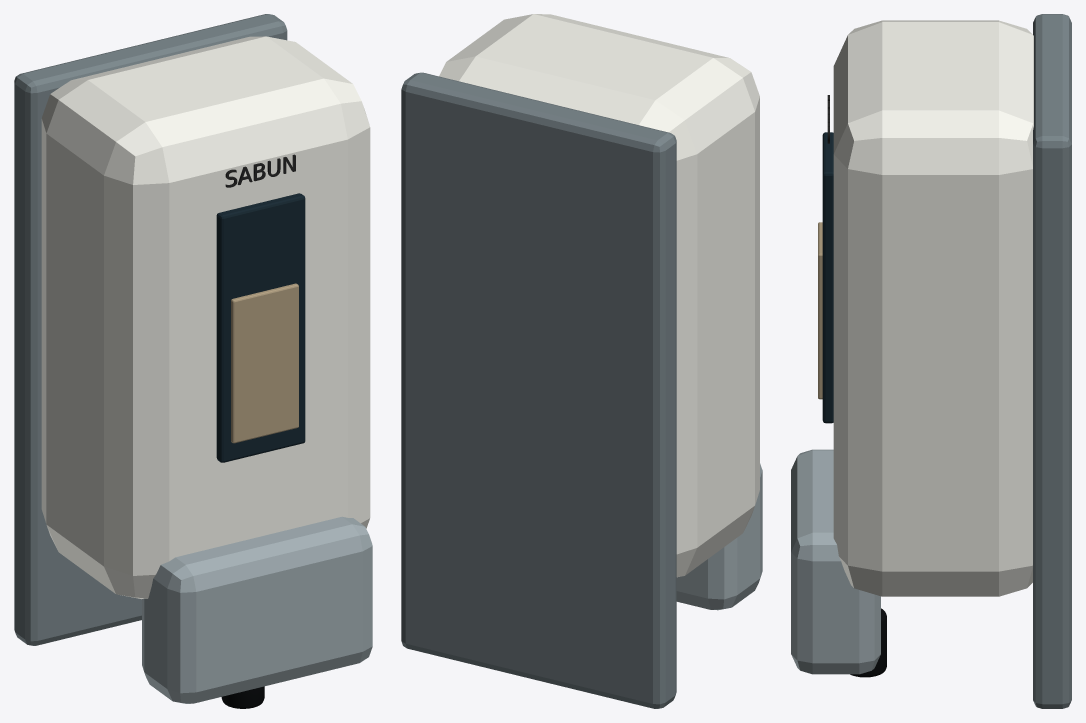
The model's file is OAA_Soap_Dispenser.fbx.
The picture shows the model from 3 angles, left to right: view 1: azimuth 30°, elevation 25°; view 2: azimuth 150°, elevation 25°; view 3: azimuth 270°, elevation 25°; orthographic projection.
Visible parts, largest first — view 1: Body; view 2: Body; view 3: Body.
Boxes of the visible parts, x1=… form: Body: x1=14, y1=14, x2=372, y2=708; Body: x1=401, y1=14, x2=762, y2=708; Body: x1=791, y1=14, x2=1071, y2=708.
Size of the model in its own units: 0.126 by 0.274 by 0.1155.
